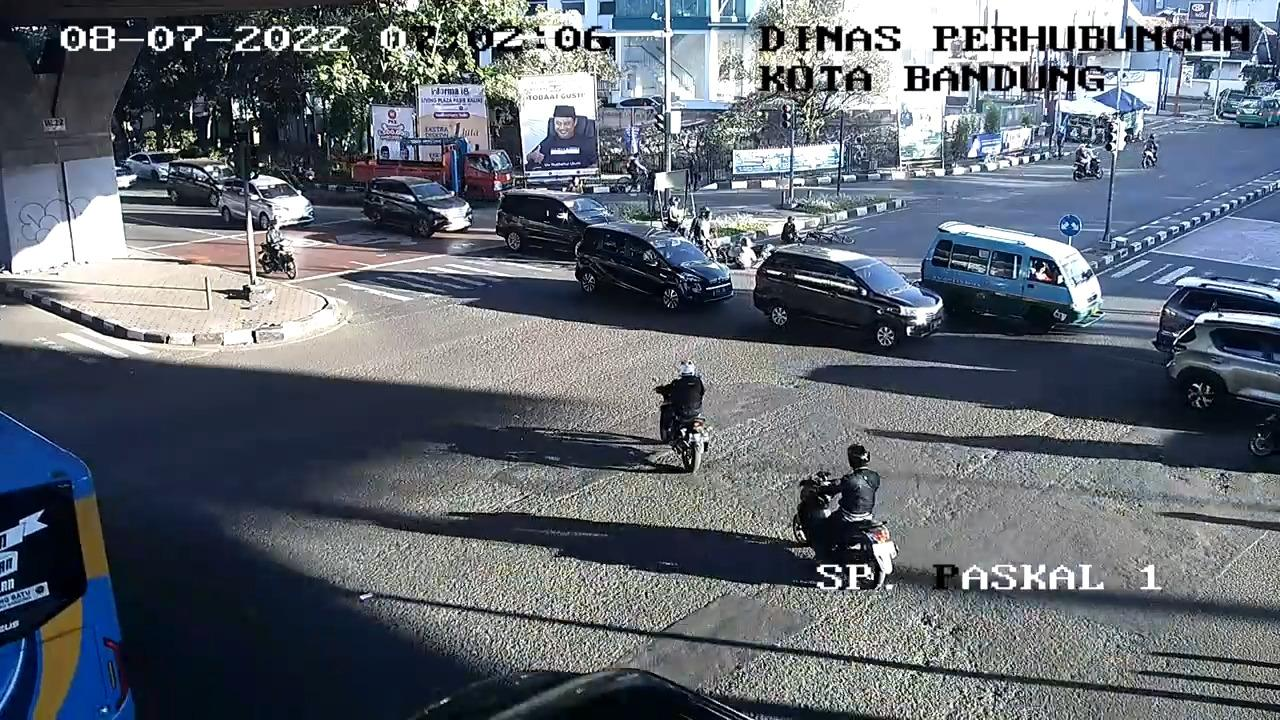accident: (769, 207, 810, 252), (725, 229, 758, 275)
